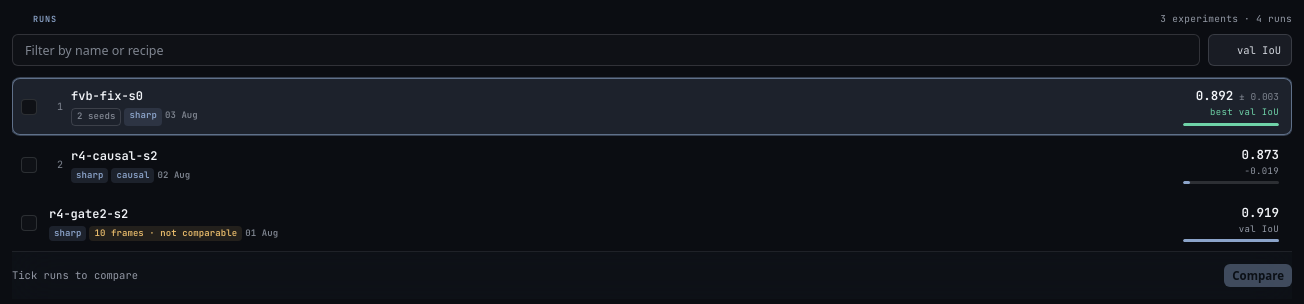
Test: RunRail › filters, and says what to do when nothing matches
Type "causal" into the search field named "Filter runs" at [606, 50], box [12,34,1200,66]
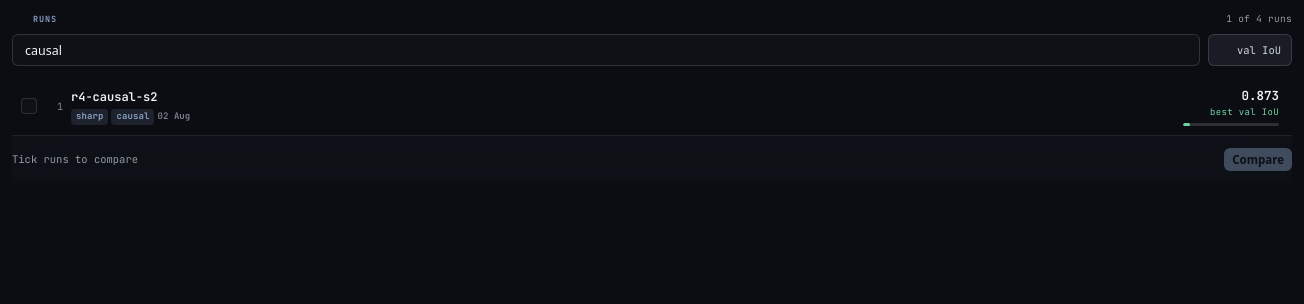
Now the number of options is 1, box [45,79,1291,134]
Replace the text in the search field named "Filter runs" with "zzz" at [606, 50], box [12,34,1200,66]
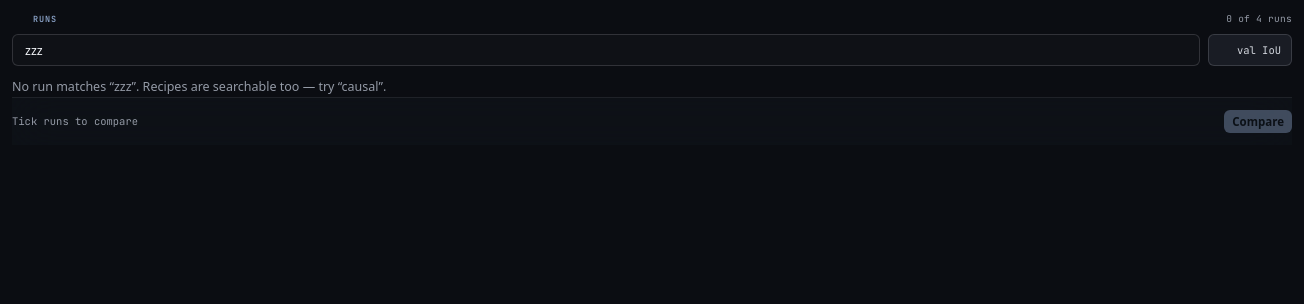
Now the text "No run matches" is shown, box [12,78,114,95]
